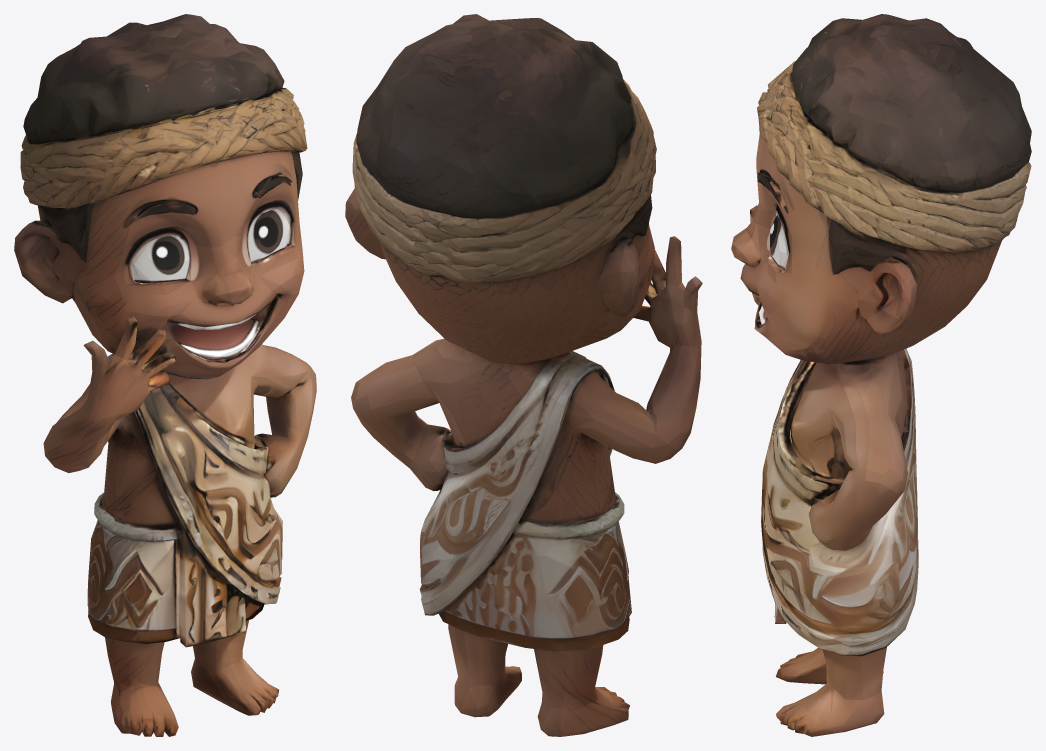
The model's file is Cowo.glb.
The picture shows the model from 3 angles, left to right: view 1: azimuth 30°, elevation 25°; view 2: azimuth 150°, elevation 25°; view 3: azimuth 270°, elevation 25°; orthographic projection. The views are drawn at different scales.
Visible parts, largest first — view 1: model; view 2: model; view 3: model.
Part boxes in pixels (<box>): model: <box>14,14,316,736</box>; model: <box>345,14,702,736</box>; model: <box>731,14,1031,736</box>.
Size of the model in its own units: 0.8109 by 1.77 by 0.7198.
Materials: 1 (1 with a texture image).
